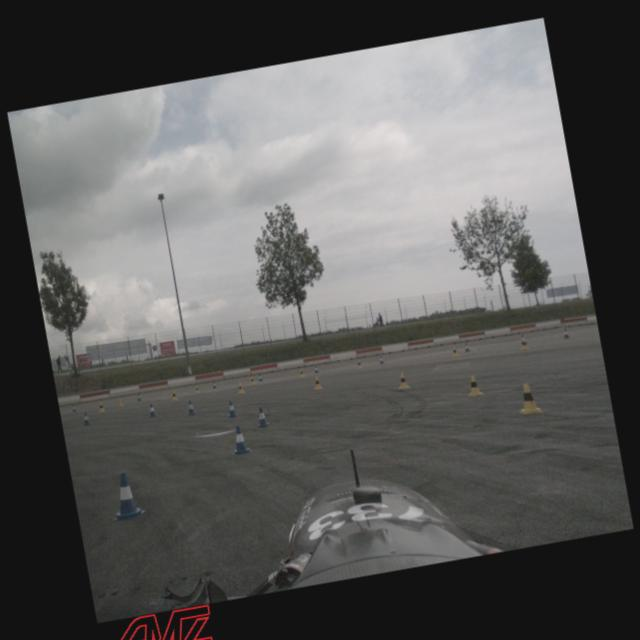blue_cone: (104, 470, 146, 522), (226, 424, 252, 456), (254, 405, 270, 428), (225, 399, 238, 418), (184, 400, 196, 416), (146, 402, 157, 418), (81, 410, 90, 424), (561, 326, 570, 338), (464, 342, 471, 352), (378, 354, 384, 364), (70, 402, 76, 412), (256, 372, 262, 381), (136, 392, 141, 402), (210, 381, 217, 388), (312, 365, 318, 373)
yellow_cone: (514, 380, 542, 415), (464, 372, 484, 396), (396, 372, 410, 391), (234, 380, 246, 394), (518, 334, 528, 348), (312, 374, 321, 389), (97, 401, 105, 413), (169, 390, 178, 400), (355, 358, 362, 369), (451, 346, 458, 356), (193, 384, 200, 393), (298, 366, 304, 376), (117, 398, 123, 407), (249, 375, 255, 384)
